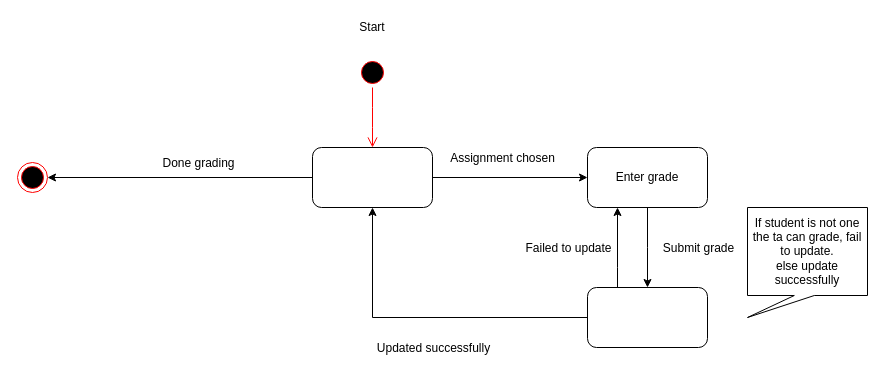
This 885x372 diagram has some shape labels left out. Each missing label, with the centre of its shape:
Choose assignment to grade: point 372,177
Verify grade was updated: point 647,317
